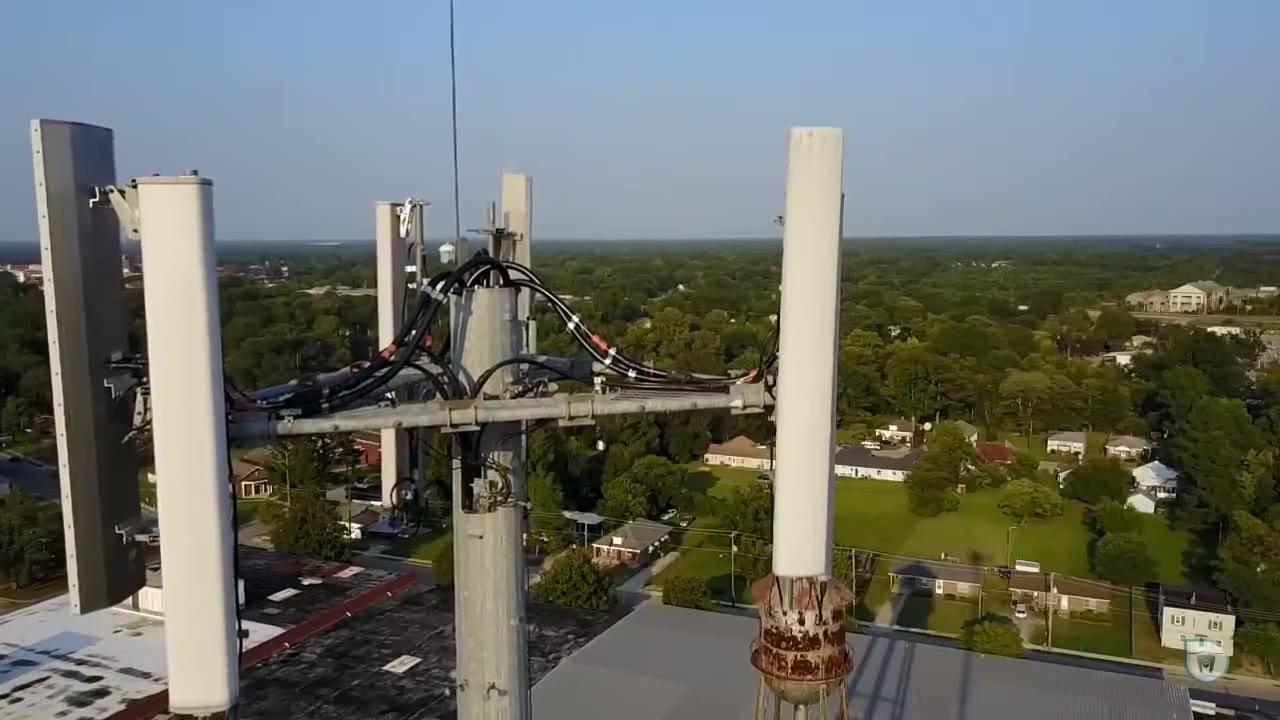antenna: (137, 165, 249, 720), (29, 109, 142, 620), (763, 111, 855, 594), (366, 189, 419, 517), (492, 167, 545, 331)
